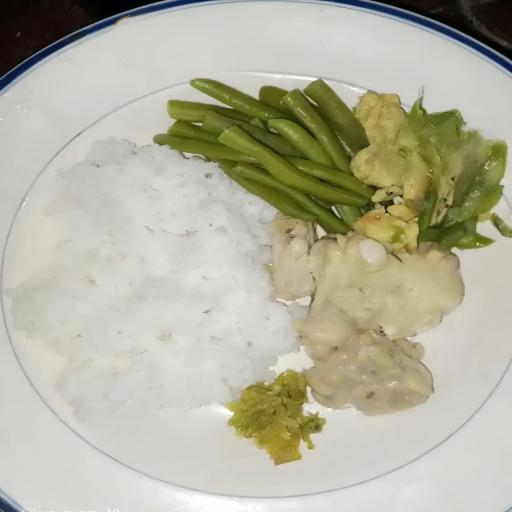buncis_rebus: (145, 50, 365, 178)
nasi_putih: (1, 168, 261, 418)
